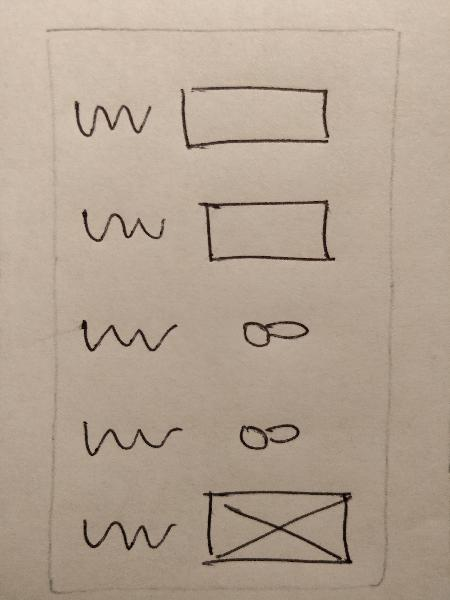image: (193, 480, 362, 577)
switch: (233, 306, 318, 357), (225, 409, 313, 458)
text: (71, 307, 191, 361), (74, 197, 176, 260), (76, 410, 191, 463), (72, 505, 180, 558), (64, 86, 160, 145)
text_input: (168, 72, 346, 155), (191, 189, 350, 272)
